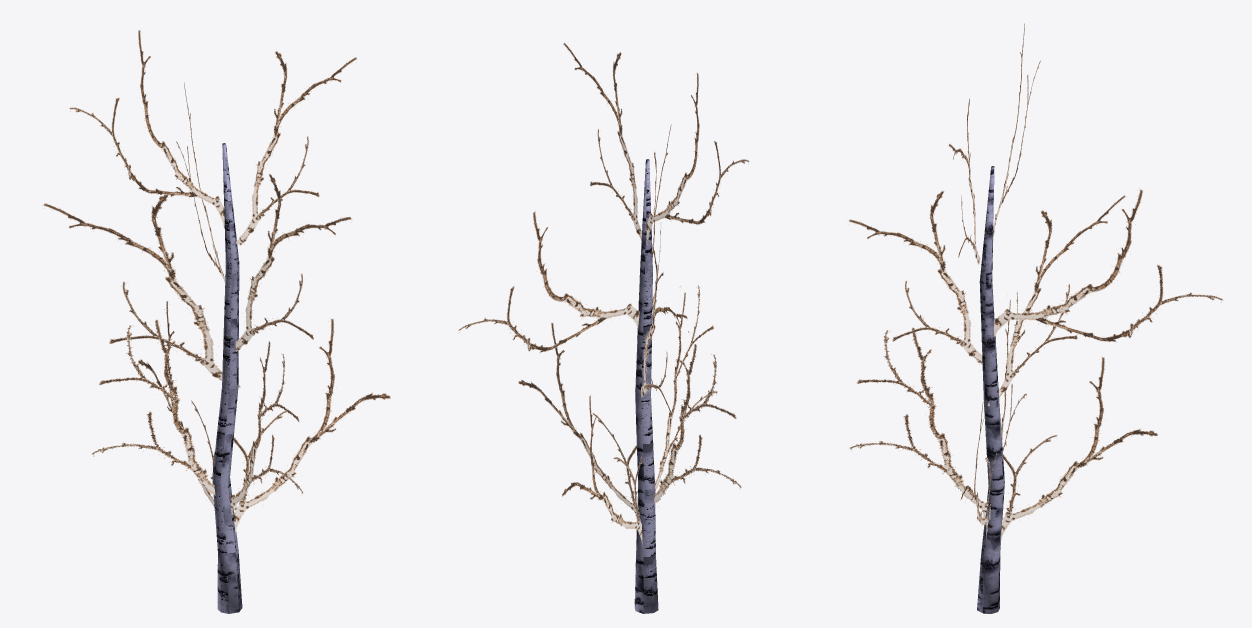
File: koivu2.glb
3 renders of one model, left to right at view 1: azimuth 30°, elevation 25°; view 2: azimuth 150°, elevation 25°; view 3: azimuth 270°, elevation 25°, orthographic. The views are drawn at different scales.
Visible parts, largest first — view 1: Koivu.001; view 2: Koivu.001; view 3: Koivu.001.
Boxes of the visible parts, x1,y1,x2,y2 form: Koivu.001: (42, 29, 390, 613); Koivu.001: (458, 42, 749, 613); Koivu.001: (848, 23, 1223, 613).
Bounding box in the file's own units: 33.15 × 56.63 × 39.71.
Materials: 2 (2 with a texture image).
